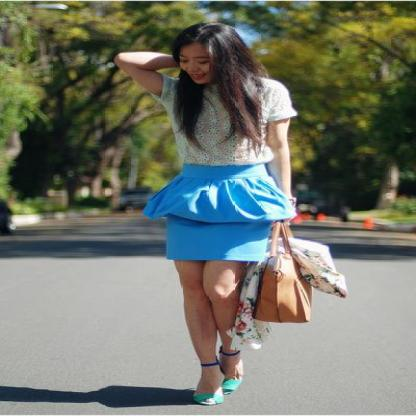bag: (257, 226, 311, 322)
jacket: (231, 241, 342, 343)
shirt: (152, 78, 296, 172)
shoe: (194, 376, 240, 403)
skirt: (144, 164, 296, 262)
